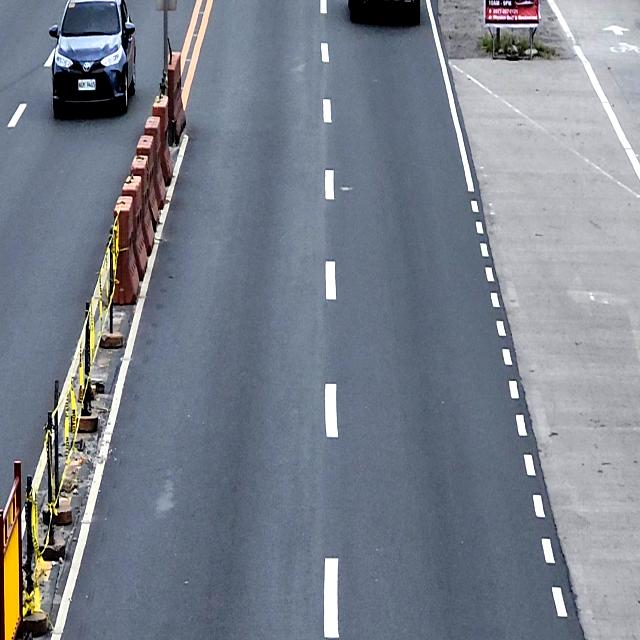Car: (49, 0, 136, 117)
License-Plate: (77, 76, 96, 92)
